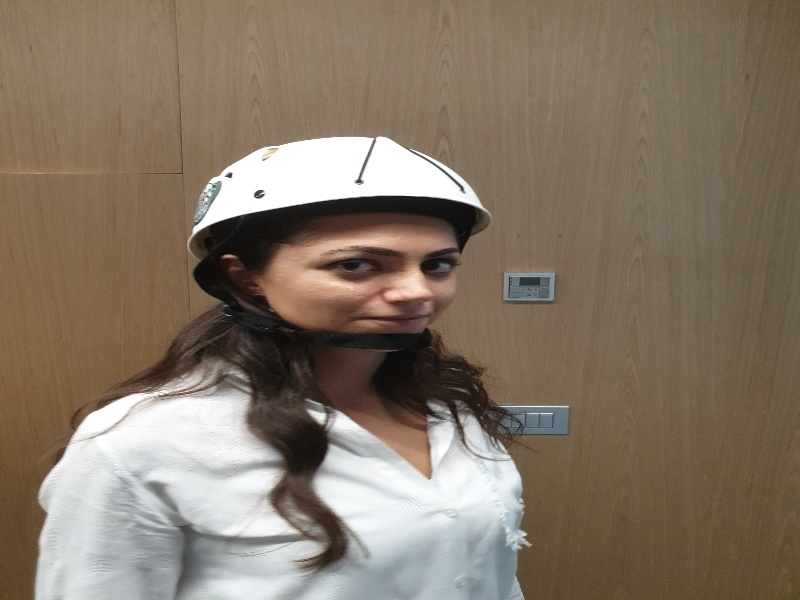Baret: (185, 135, 496, 231)
